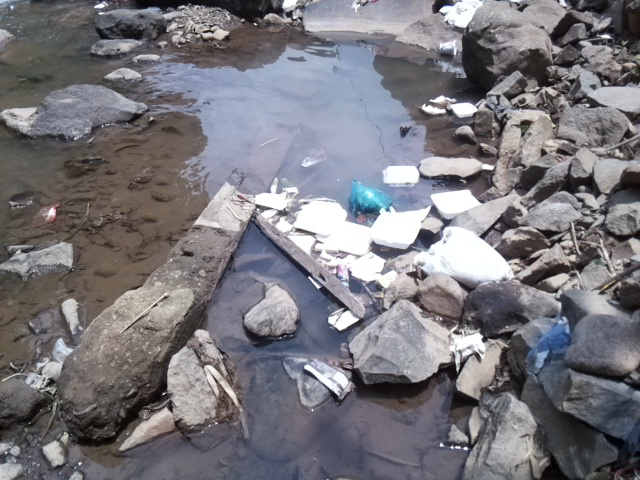Sampah_Plastik: (421, 230, 521, 288), (300, 356, 359, 401), (348, 179, 392, 214)
Sampah_Styrofoam: (301, 206, 422, 282), (294, 198, 342, 237), (428, 189, 483, 215), (251, 184, 293, 215), (380, 164, 421, 187), (446, 101, 478, 118)
